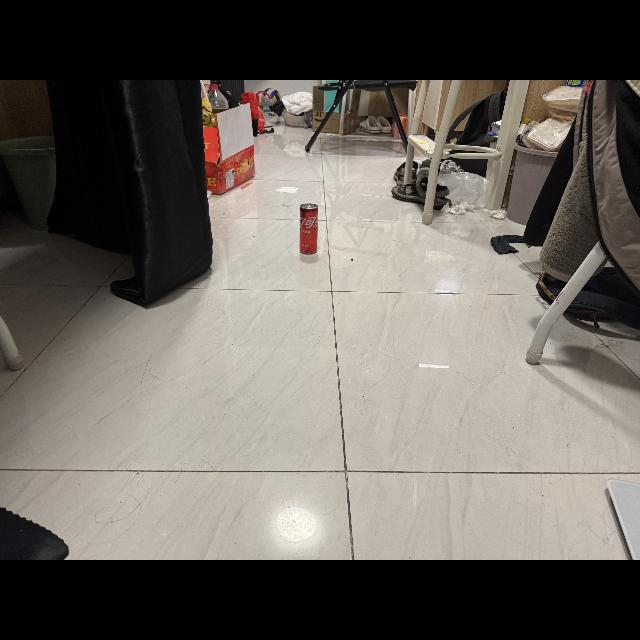Cola: (296, 199, 324, 259)
